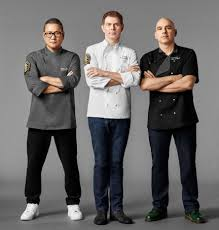Bad: (84, 10, 207, 224), (20, 9, 140, 225)
